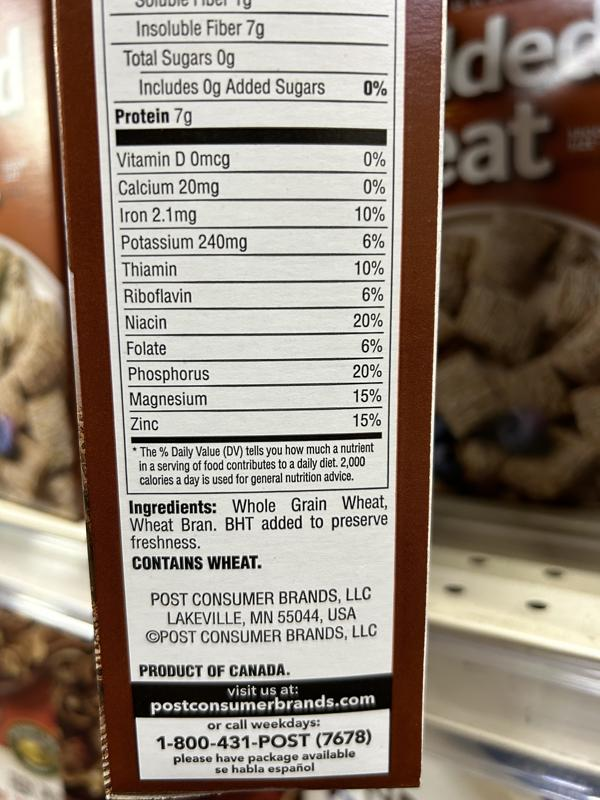ingredients: (125, 493, 392, 551)
